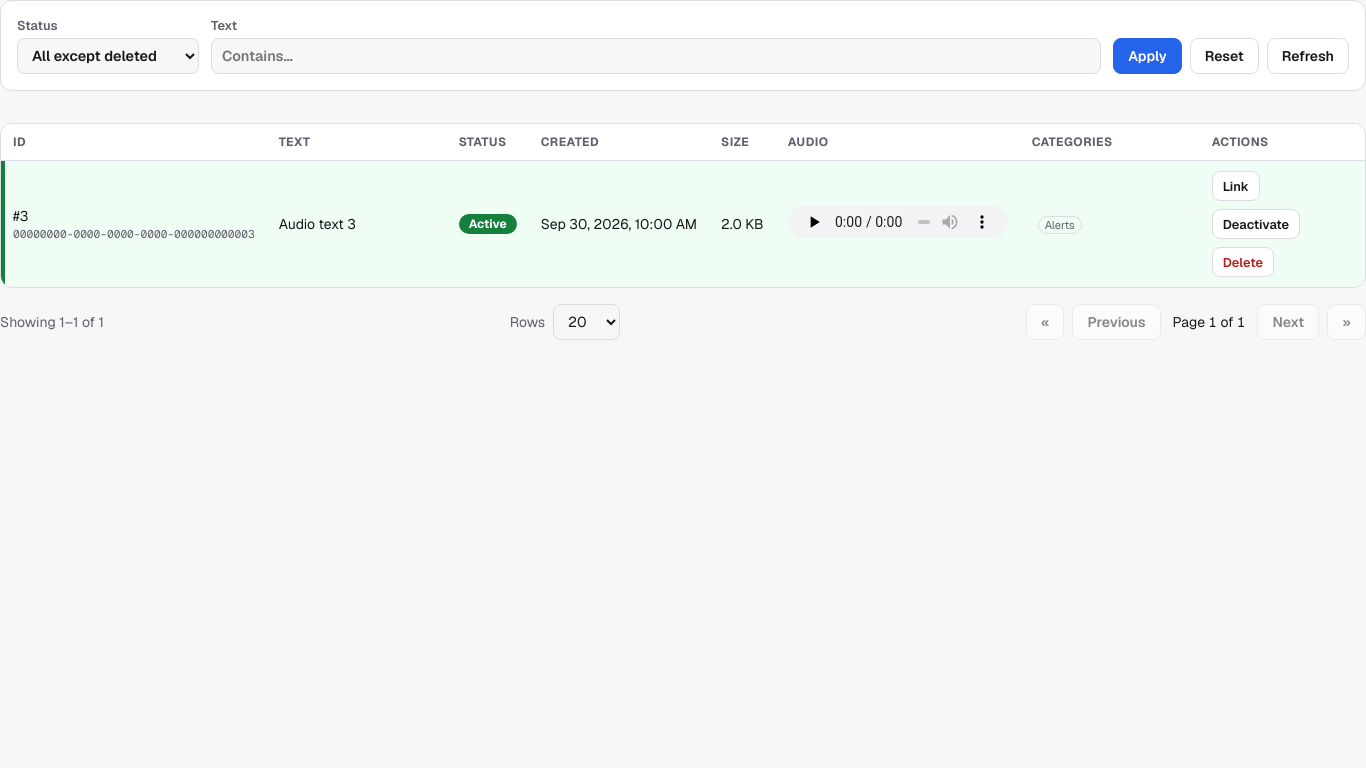
AudioLog › links audio to a category from the pop-up
The width and height of the screenshot is (1366, 768).
Click the button named "Link audio #3 to a category": click(1236, 186) [1212, 171, 1260, 201]
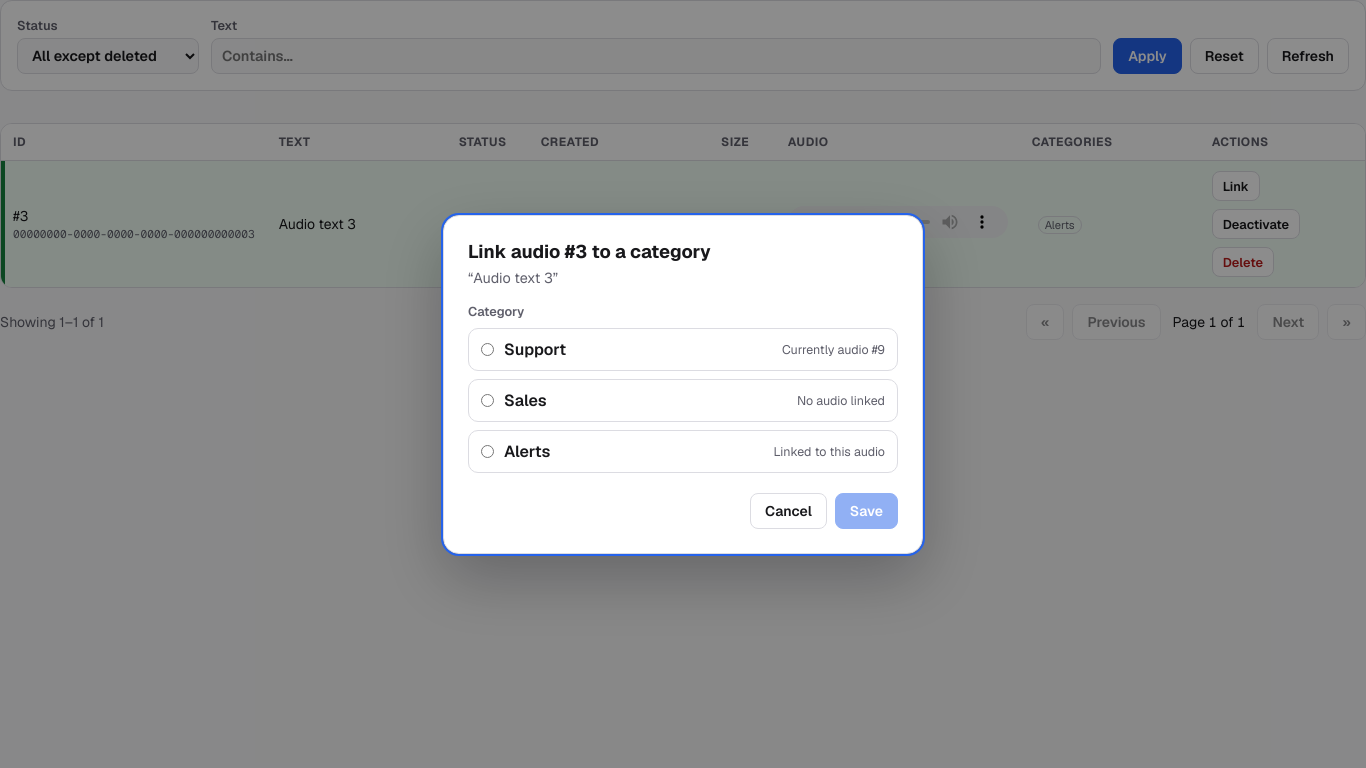
Expected: the text "Currently audio #9" is shown, [782, 340, 885, 358]
Expected: the text "No audio linked" is shown, [797, 392, 885, 408]
Expected: the text "Linked to this audio" is shown, [774, 442, 885, 460]
Click the radio button labelled "Support Currently audio #9": click(488, 349) [481, 342, 494, 356]
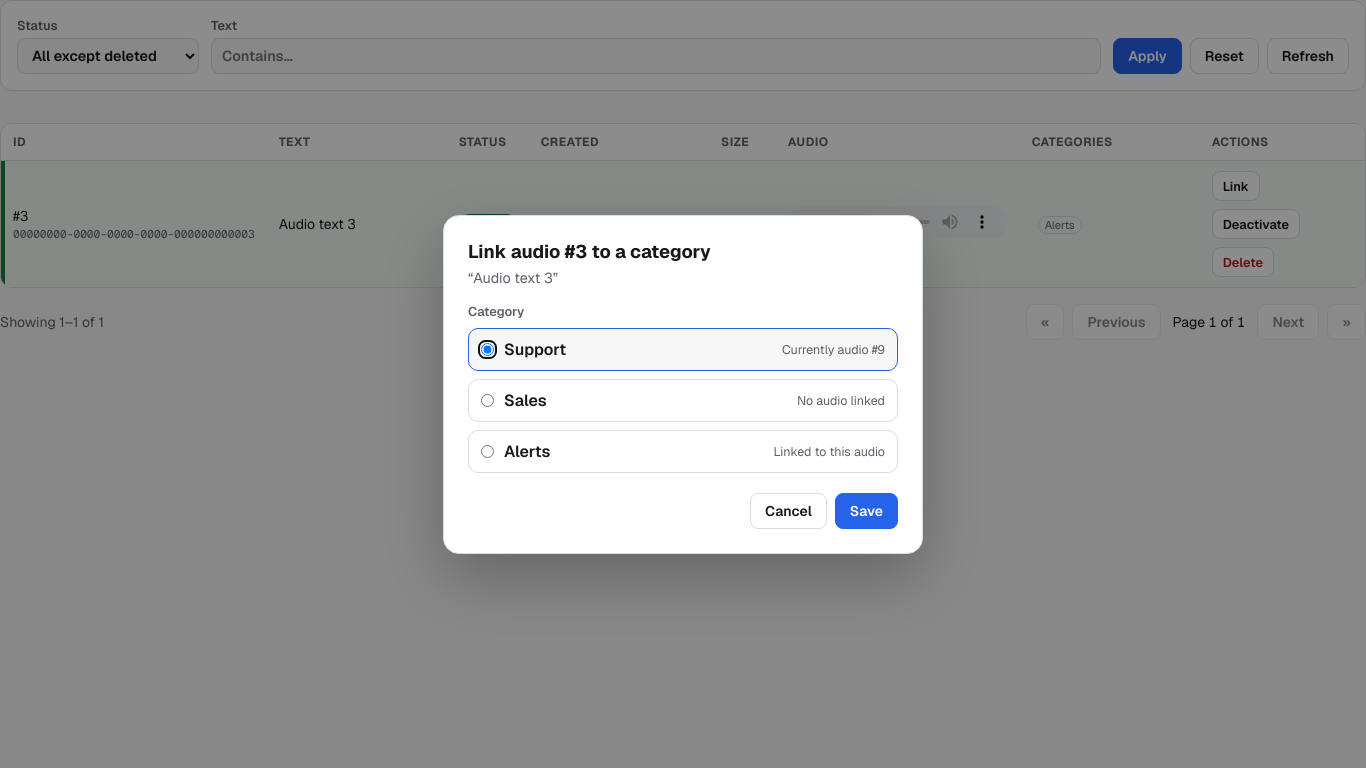
Click the button "Save": click(866, 510) [835, 492, 898, 528]
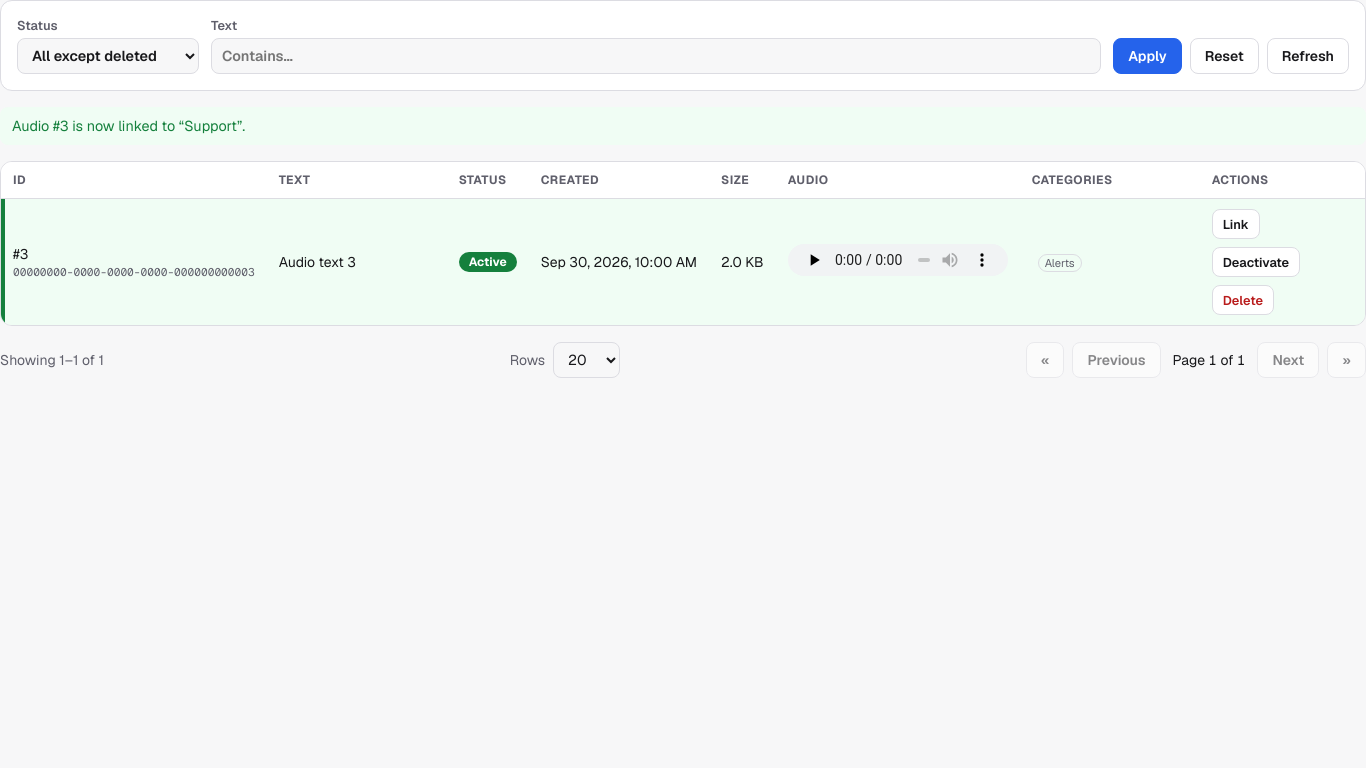
Expected: the message reads "Audio #3 is now linked to “Support”.", [12, 117, 245, 135]
Expected: the dialog is gone
